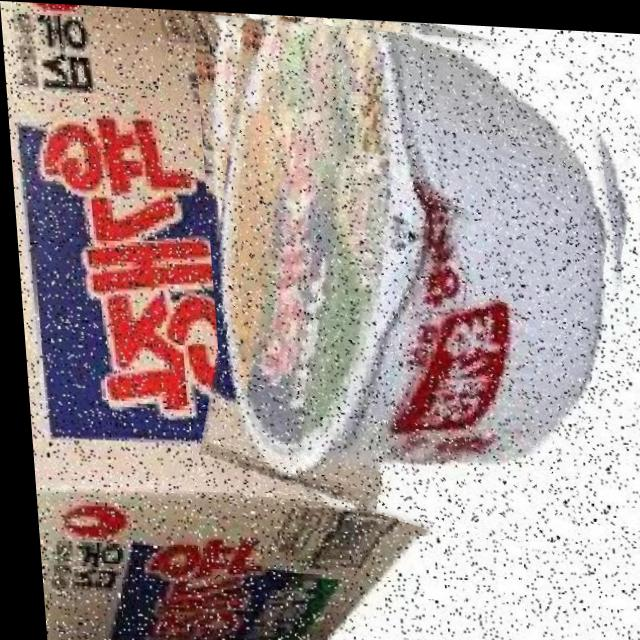Miscellaneous: (193, 8, 640, 540)
